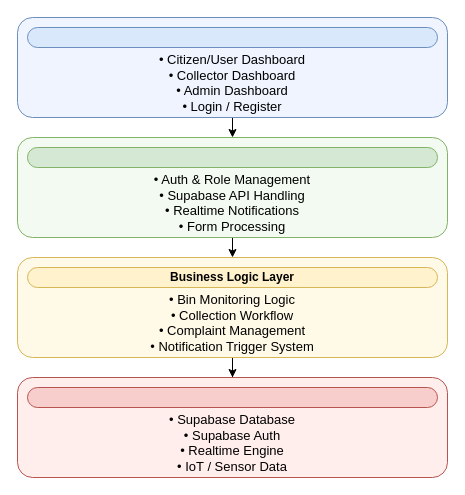
The diagram is 465 pixels wide and 495 high, and some of its shapes have lost their labels. Each missing label, with the centre of its shape:
Application Service Layer: (232,157)
Data & Infrastructure Layer: (232,397)
User Interface Layer: (232,37)
